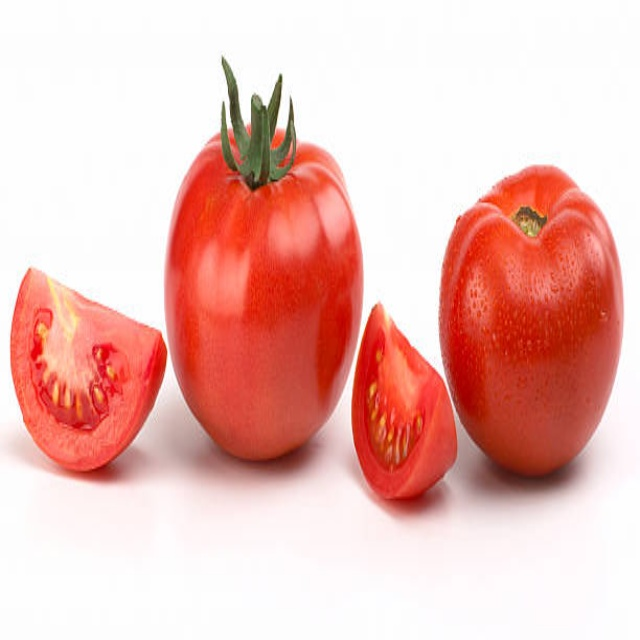tomato: (159, 102, 363, 488), (441, 135, 621, 486), (15, 271, 171, 468), (335, 308, 461, 517)
